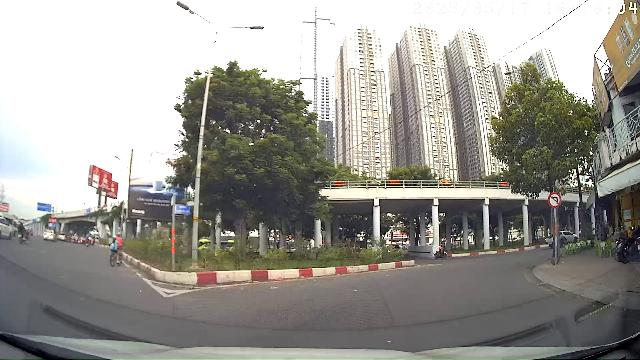123a-cam-re-trai: (548, 192, 562, 208)
